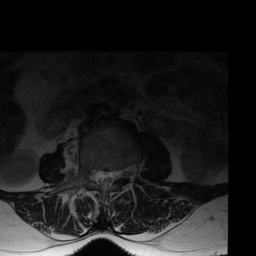CCS_normal: (101, 162, 108, 196)
LFS_normal: (116, 158, 126, 186)
LLS_normal: (108, 159, 116, 193)
RFS_normal: (83, 157, 92, 186)
RLS_normal: (92, 159, 101, 193)
